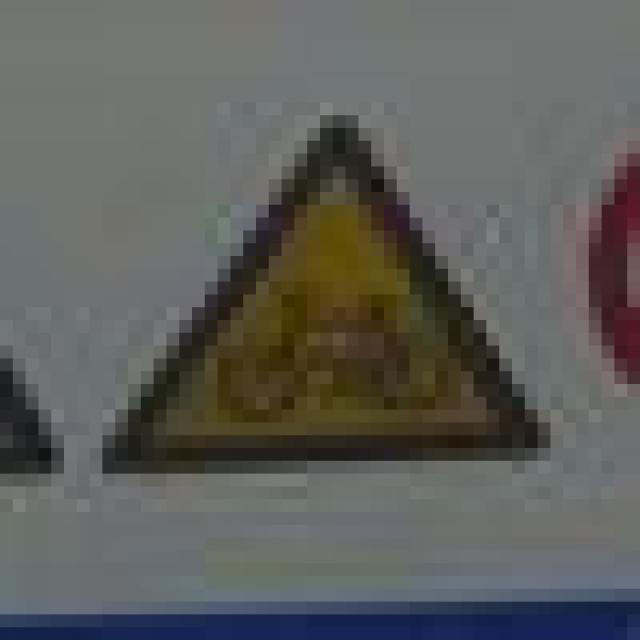cycle_crossing: (76, 102, 538, 474)
